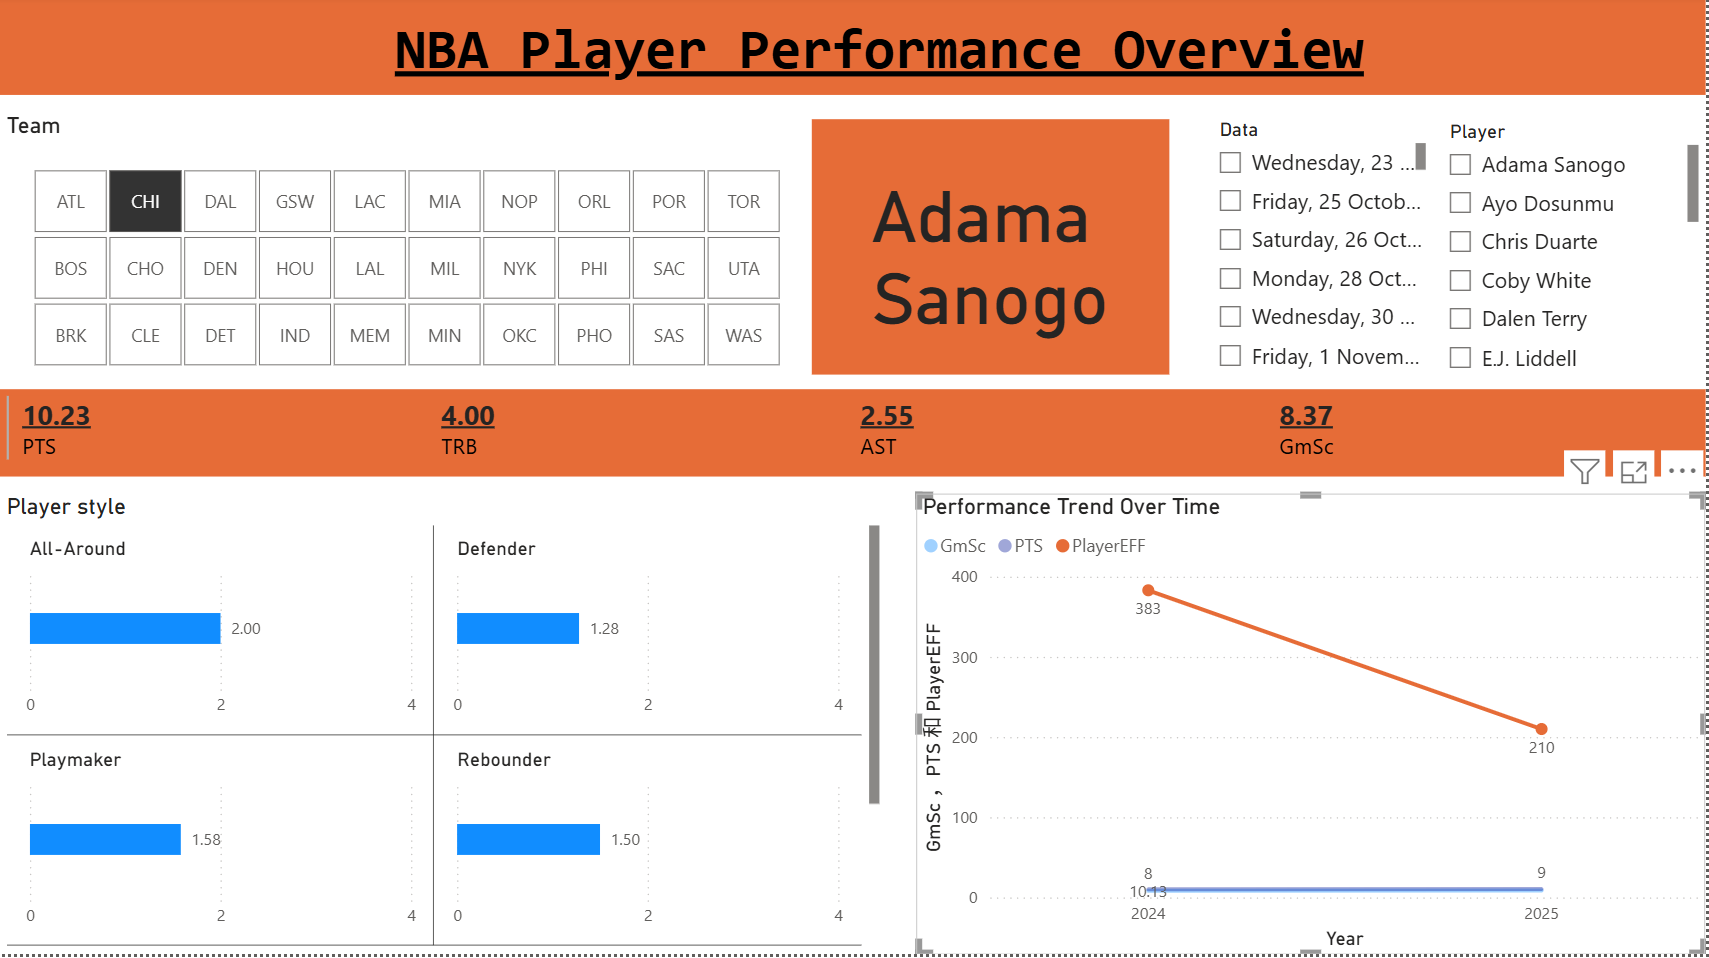

What the dashboard file says about the page in this screenshot:
{"tool":"powerbi","page":{"name":"Nba Player performance","canvas":[1280,720],"ordinal":0},"visuals":[{"type":"slicer","title":"Team","fields":{"Values":["database_24_25 (2).Tm"]},"box":[0,87.8,609.2,197.2],"z":0},{"type":"slicer","fields":{"Values":["database_24_25 (2).Data.Variation.Date Hierarchy.Year"]},"box":[902.6,87.3,173,198],"z":1000},{"type":"textbox","box":[0,0,1279.8,74.8],"z":2000},{"type":"multiRowCard","fields":{"Values":["Avg(database_24_25 (2).PTS)","Avg(database_24_25 (2).TRB)","Avg(database_24_25 (2).AST)","Avg(database_24_25 (2).GmSc)"]},"box":[0,296.2,1279.8,65.5],"z":3000},{"type":"slicer","fields":{"Values":["database_24_25 (2).Player"]},"box":[1075.6,88.9,204.2,198],"z":4000},{"type":"card","fields":{"Values":["Min(NBA player performance.Player)"]},"box":[609.5,93.5,268.1,191.7],"z":5000},{"type":"barChart","title":"Player style ","fields":{"Rows":["NBA player performance.PlayerRole"],"Y":["Avg(NBA player performance.3P)"]},"box":[0,374.2,665.9,345.8],"z":6000},{"type":"lineChart","title":"Performance Trend Over Time","fields":{"Category":["NBA player performance.Data.Variation.Date Hierarchy.Year"],"Y":["Avg(database_24_25 (2).GmSc)","Avg(database_24_25 (2).PTS)","CountNonNull(NBA player performance.PlayerEFF)"]},"box":[687.5,374.1,592.4,346.1],"z":7000}]}

Visuals, with their boxes in screenshot pixels (x1, y1, x2, y2), scaled from the page's 1280x720 canvas onto the 1709x958 screenshot:
"Team" slicer: bbox=(0, 117, 813, 379)
slicer - database_24_25 (2).Data.Variation.Date Hierarchy.Year: bbox=(1205, 116, 1436, 380)
textbox: bbox=(0, 0, 1708, 100)
multiRowCard - Avg(database_24_25 (2).PTS) x Avg(database_24_25 (2).TRB): bbox=(0, 394, 1708, 481)
slicer - database_24_25 (2).Player: bbox=(1436, 118, 1708, 382)
card - Min(NBA player performance.Player): bbox=(814, 124, 1172, 379)
"Player style " barChart: bbox=(0, 498, 889, 957)
"Performance Trend Over Time" lineChart: bbox=(918, 498, 1708, 957)
